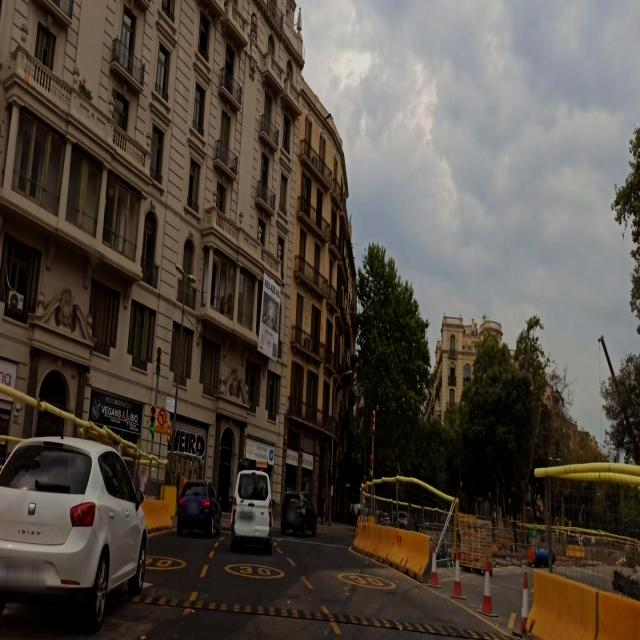car: (0, 434, 148, 633), (230, 466, 274, 554), (176, 479, 222, 538), (280, 489, 318, 538)
